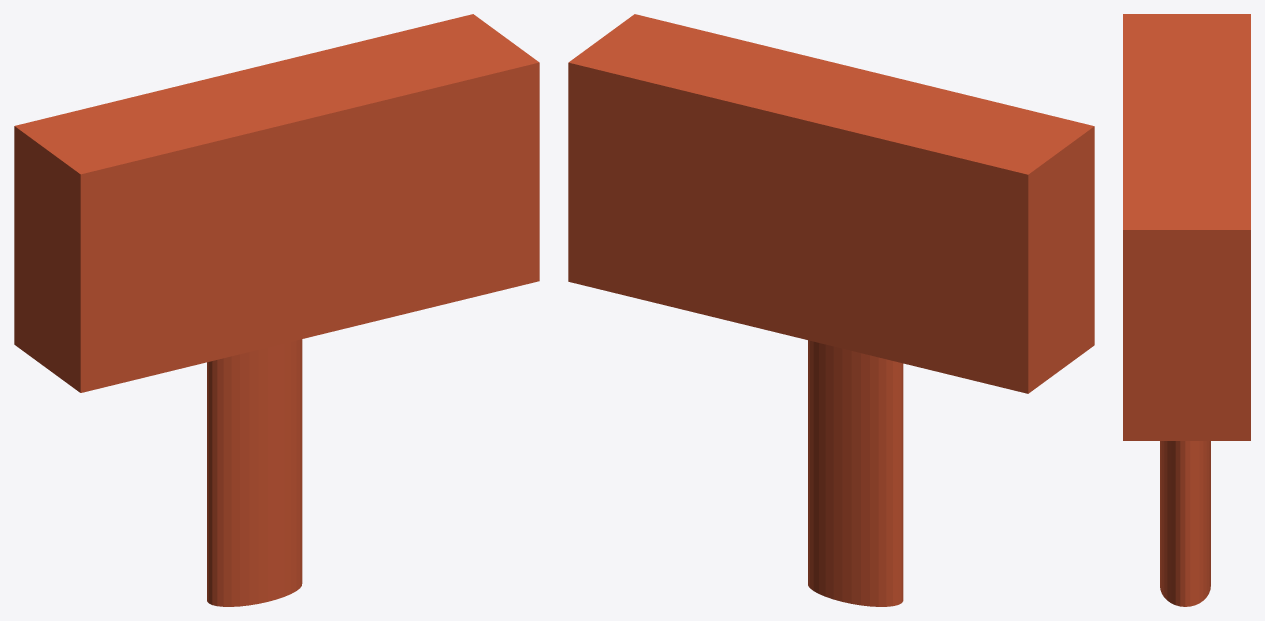
Rendered from kanban.obj.
3 renders of one model, left to right at view 1: azimuth 30°, elevation 25°; view 2: azimuth 150°, elevation 25°; view 3: azimuth 270°, elevation 25°, orthographic. The views are drawn at different scales.
Visible parts, largest first — view 1: 円柱; view 2: 円柱; view 3: 円柱.
Boxes of the visible parts, bbox=[...] form: 円柱: bbox=[14, 14, 539, 606]; 円柱: bbox=[568, 14, 1094, 606]; 円柱: bbox=[1123, 14, 1250, 606].
Bounding box in the file's own units: 2 × 2.05 × 0.5.
1 material, 1 textured.
